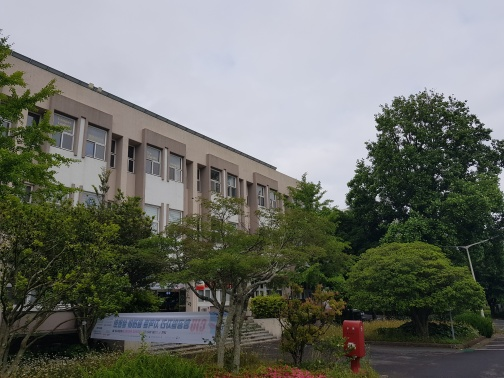Main Building of University: (13, 56, 316, 337)
